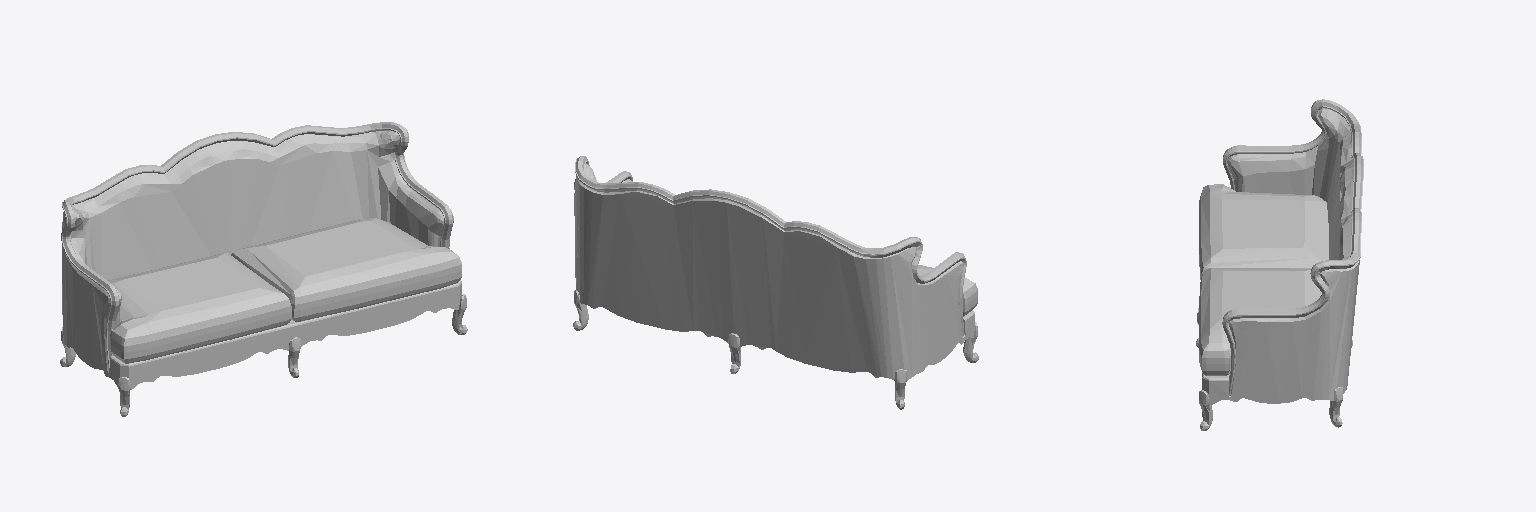
The model's file is Sofa_01_4k.obj.
The picture shows the model from 3 angles: view 1: azimuth 30°, elevation 25°; view 2: azimuth 150°, elevation 25°; view 3: azimuth 270°, elevation 25°; orthographic projection.
Visible parts, largest first — view 1: Sofa_01_Line[number redacted].002; view 2: Sofa_01_Line[number redacted].002; view 3: Sofa_01_Line[number redacted].002.
Part boxes in pixels (bbox=[...]): Sofa_01_Line[number redacted].002: bbox=[60, 122, 467, 416]; Sofa_01_Line[number redacted].002: bbox=[573, 156, 978, 409]; Sofa_01_Line[number redacted].002: bbox=[1196, 99, 1363, 430].
Size of the model in its own units: 1.57 by 0.7965 by 0.658.